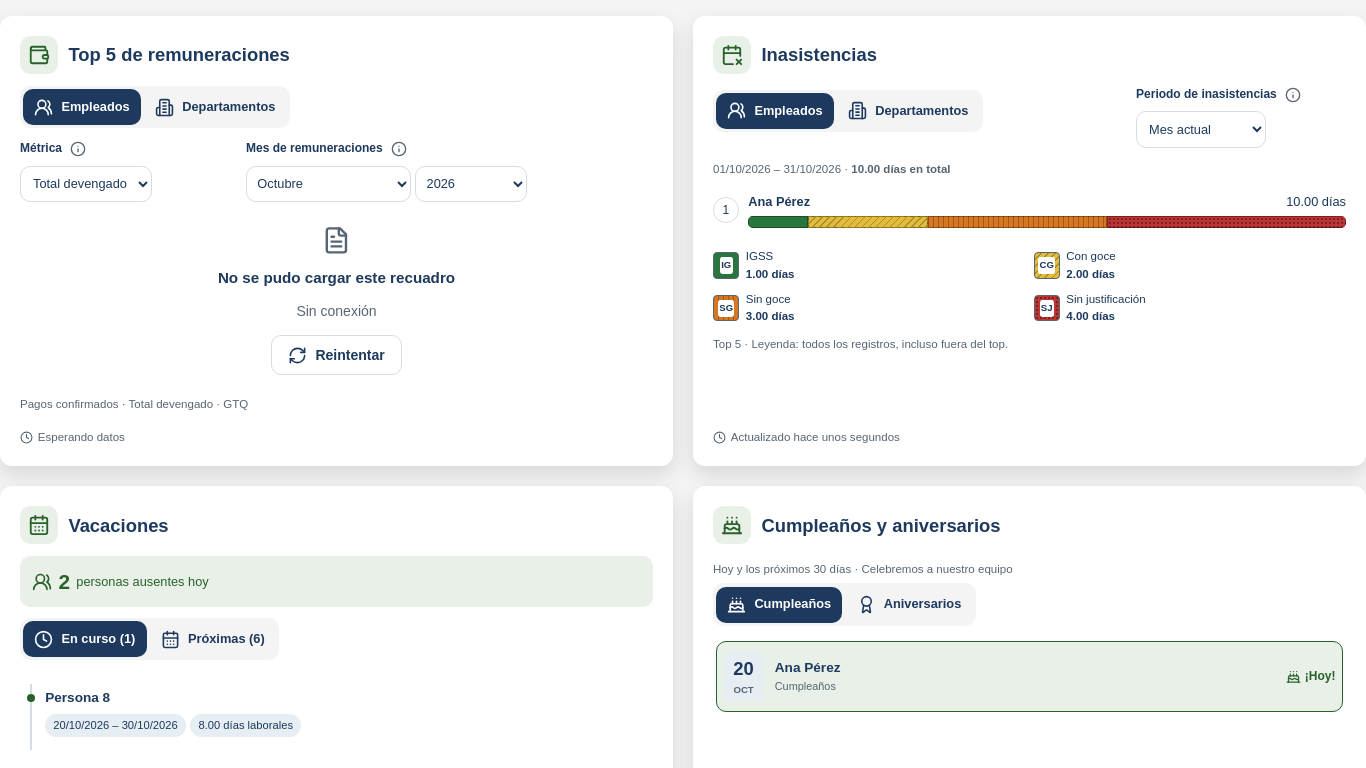
Test: R2-9: primera vista de RRHH › aísla el error de un endpoint y permite reintentar sin bloquear el resto
The width and height of the screenshot is (1366, 768).
Expected: the heading "No se pudo cargar este recuadro" is shown, [218,267,455,288]
Expected: the text "¡Hoy!" is shown, [1286,668,1336,686]
Click the button "Reintentar" at (336, 355), box [271,335,402,375]
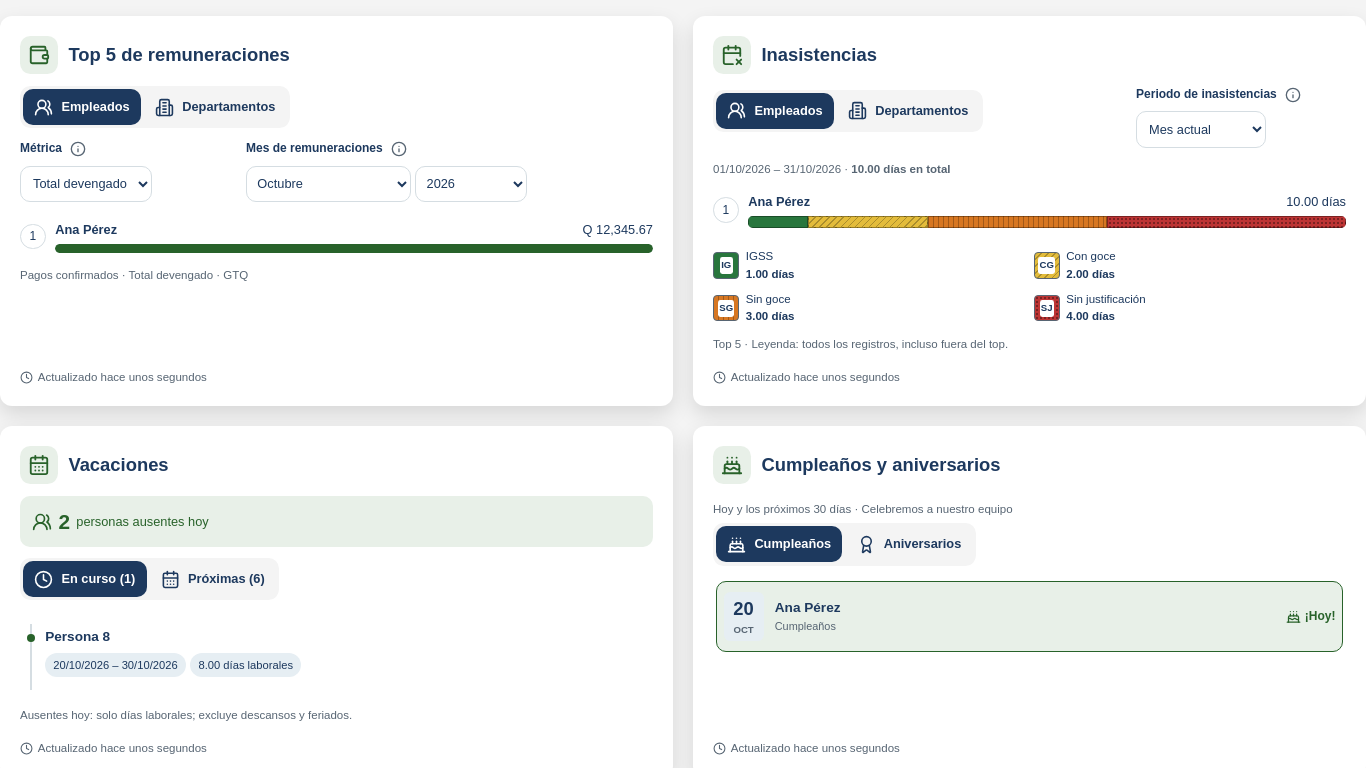
Now the link "1 Ana Pérez Q 12,345.67" is shown, box [20,220,653,253]
